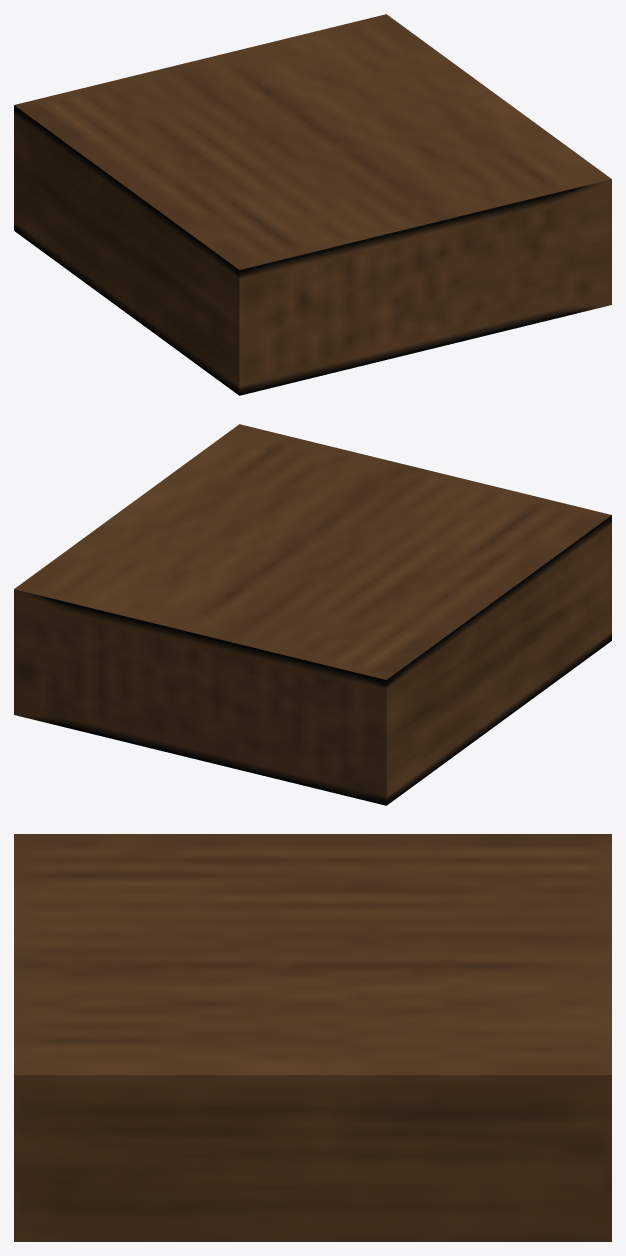
File: Frame capital__n2.glb
3 views of the same model, one above another, from view 1: azimuth 30°, elevation 25°; view 2: azimuth 150°, elevation 25°; view 3: azimuth 270°, elevation 25° (orthographic). The views are drawn at different scales.
Parts seen in each view (by area): view 1: Frame capital; view 2: Frame capital; view 3: Frame capital.
Part boxes in pixels (left/top/right/bottom): Frame capital: left=14, top=14, right=611, bottom=395; Frame capital: left=14, top=424, right=611, bottom=805; Frame capital: left=14, top=834, right=611, bottom=1241.
Bounding box in the file's own units: 0.62 × 0.2 × 0.65.
1 material, 1 textured.
